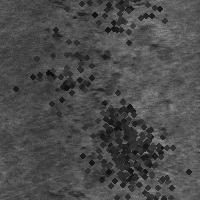rolled-in_scale: (14, 21, 120, 127), (54, 45, 126, 197), (97, 127, 197, 200), (73, 108, 157, 192), (65, 0, 171, 58), (104, 96, 168, 177), (102, 110, 172, 180), (91, 94, 139, 142)
